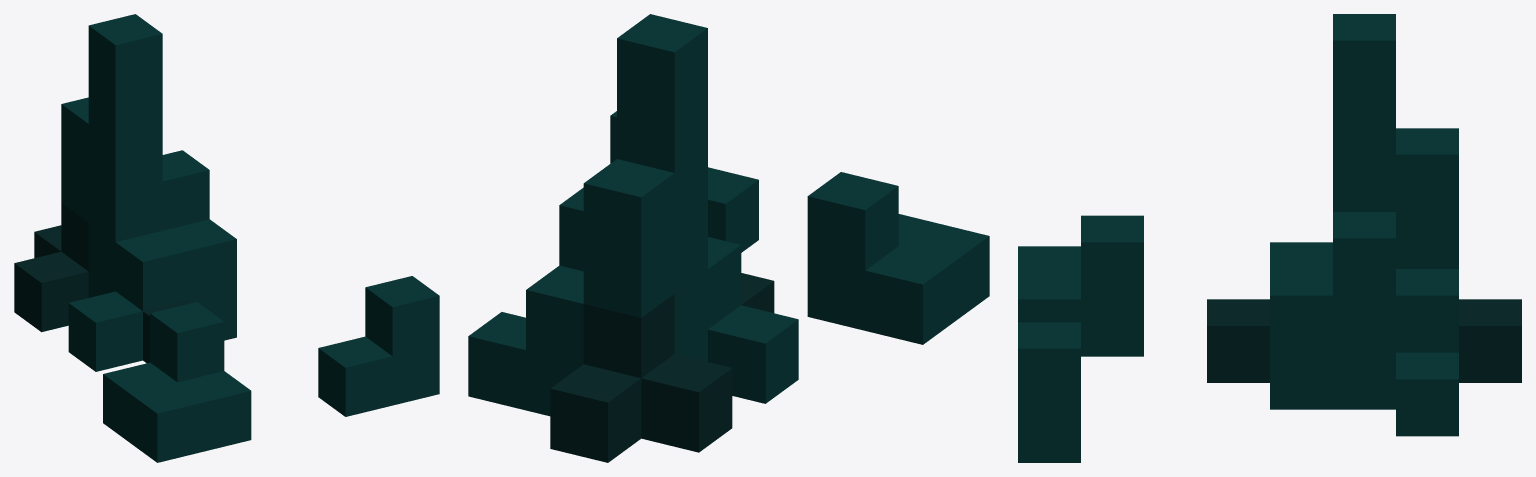
The model's file is rock1.obj.
3 views of the same model, side by side, from view 1: azimuth 30°, elevation 25°; view 2: azimuth 150°, elevation 25°; view 3: azimuth 270°, elevation 25° (orthographic). The views are drawn at different scales.
Size of the model in its own units: 0.6 by 0.6 by 0.8.
Materials: 1 (1 with a texture image).
